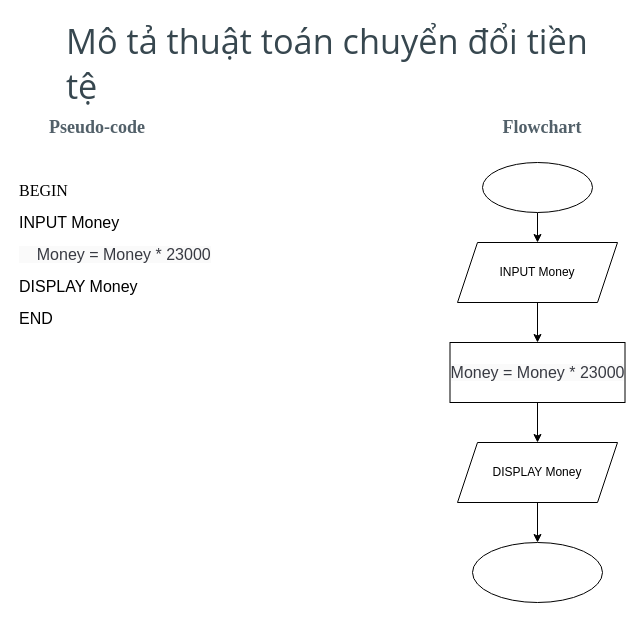
This 642x620 diagram has some shape labels left out. The shapes that lost their labels are listed below. From the top down, each one's centre as x and y in pixels, then its label:
point (537, 187): START
point (537, 572): STOP
